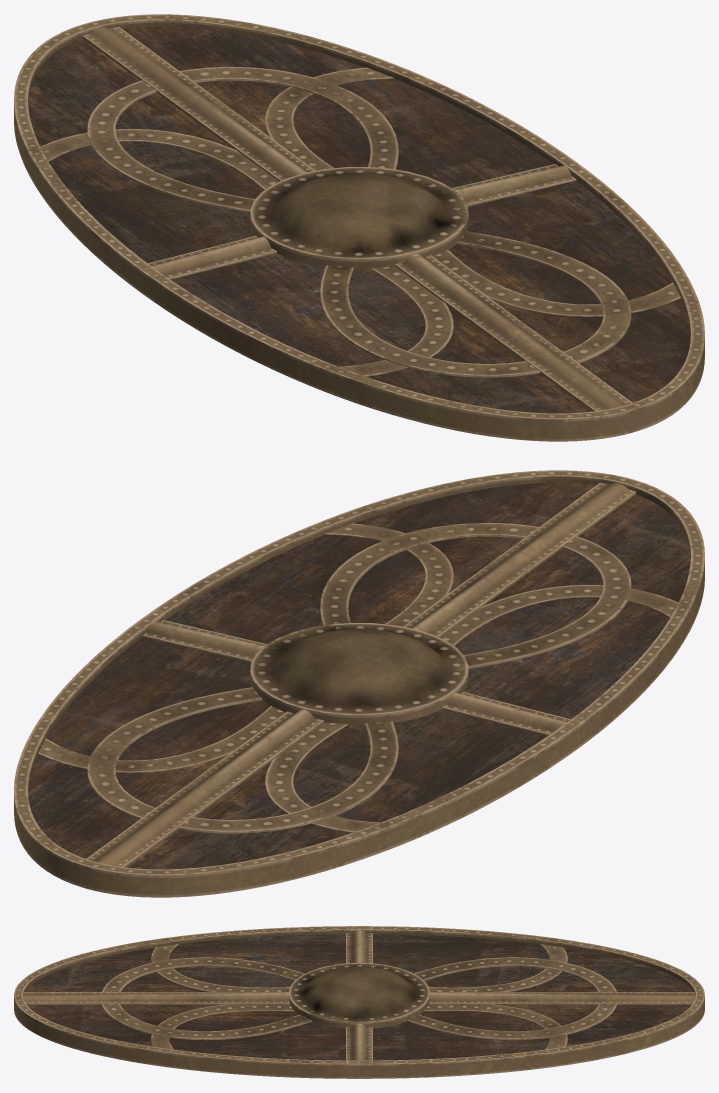
File: dunland_wulf_shield_heavy_e.fbx
3 views of the same model, one above another, from view 1: azimuth 30°, elevation 25°; view 2: azimuth 150°, elevation 25°; view 3: azimuth 270°, elevation 25° (orthographic). The views are drawn at different scales.
Visible parts, largest first — view 1: dunland_wulf_shield_heavy_e; view 2: dunland_wulf_shield_heavy_e; view 3: dunland_wulf_shield_heavy_e.
Boxes of the visible parts, x1,y1,x2,y2 form: dunland_wulf_shield_heavy_e: (14, 14, 704, 441); dunland_wulf_shield_heavy_e: (14, 470, 704, 897); dunland_wulf_shield_heavy_e: (14, 926, 704, 1078).
Size of the model in its own units: 0.7189 by 1.52 by 0.0818.
Materials: 1 (1 with a texture image).
